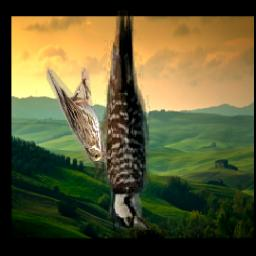Sparrow: (47, 67, 107, 162)
Woodpecker: (88, 0, 152, 231)
